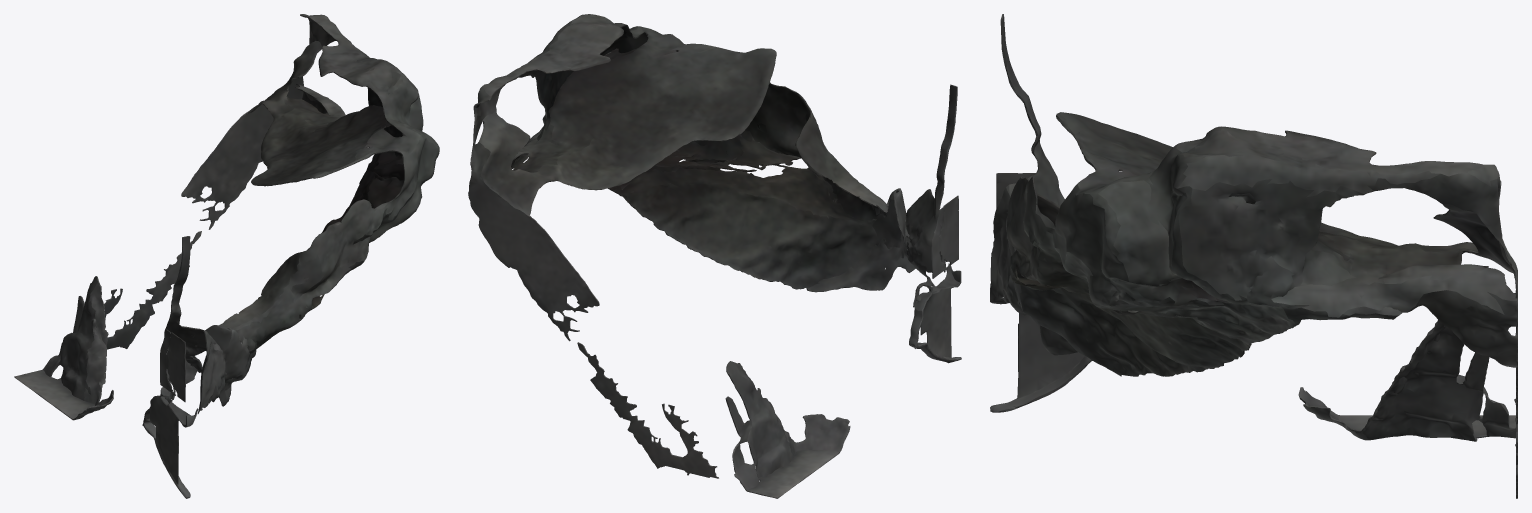
The picture shows the model from 3 angles, left to right: view 1: azimuth 30°, elevation 25°; view 2: azimuth 150°, elevation 25°; view 3: azimuth 270°, elevation 25°; orthographic projection. The views are drawn at different scales.
Visible parts, largest first — view 1: world; view 2: world; view 3: world.
Part boxes in pixels (x1,y1,x2,y2): world: (14, 14, 439, 498); world: (468, 14, 961, 498); world: (990, 14, 1517, 498).
Bounding box in the file's own units: 3.5 × 3.49 × 3.5.
1 material, 1 textured.
